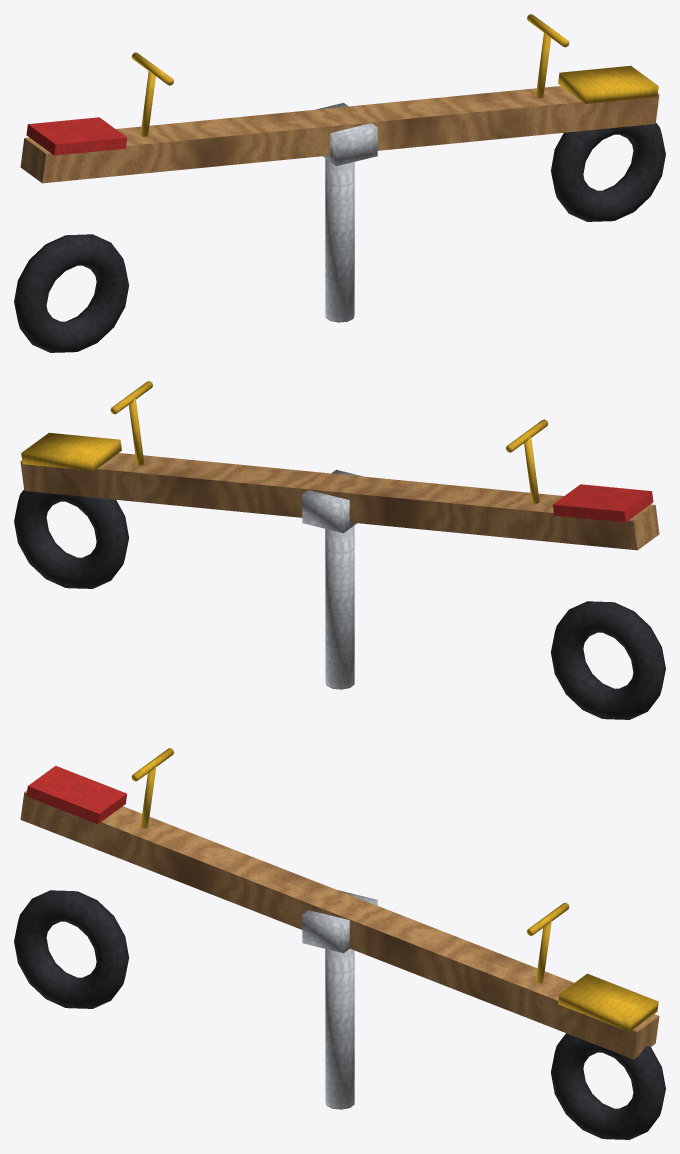
The model's file is playground_seesaw.glb.
3 views of the same model, one above another, from view 1: azimuth 30°, elevation 25°; view 2: azimuth 150°, elevation 25°; view 3: azimuth 330°, elevation 25° (orthographic).
Visible parts, largest first — view 1: Seesaw_wood, Seesaw_tires, Seesaw_galv, Seesaw_yellow, Seesaw_red; view 2: Seesaw_wood, Seesaw_tires, Seesaw_galv, Seesaw_yellow, Seesaw_red; view 3: Seesaw_wood, Seesaw_tires, Seesaw_galv, Seesaw_yellow, Seesaw_red.
Part boxes in pixels (left/top/right/bottom): Seesaw_wood: left=20, top=86, right=659, bottom=183; Seesaw_tires: left=14, top=123, right=665, bottom=352; Seesaw_galv: left=316, top=102, right=377, bottom=322; Seesaw_yellow: left=131, top=14, right=658, bottom=136; Seesaw_red: left=26, top=117, right=126, bottom=155; Seesaw_wood: left=20, top=453, right=659, bottom=550; Seesaw_tires: left=14, top=490, right=665, bottom=719; Seesaw_galv: left=302, top=469, right=363, bottom=689; Seesaw_yellow: left=21, top=381, right=548, bottom=503; Seesaw_red: left=553, top=484, right=653, bottom=522; Seesaw_wood: left=20, top=790, right=659, bottom=1059; Seesaw_tires: left=14, top=890, right=665, bottom=1139; Seesaw_galv: left=302, top=890, right=377, bottom=1109; Seesaw_yellow: left=131, top=748, right=658, bottom=1031; Seesaw_red: left=26, top=765, right=126, bottom=823.
Size of the model in its own units: 3.77 by 1.65 by 0.36.
5 materials, 5 textured.
